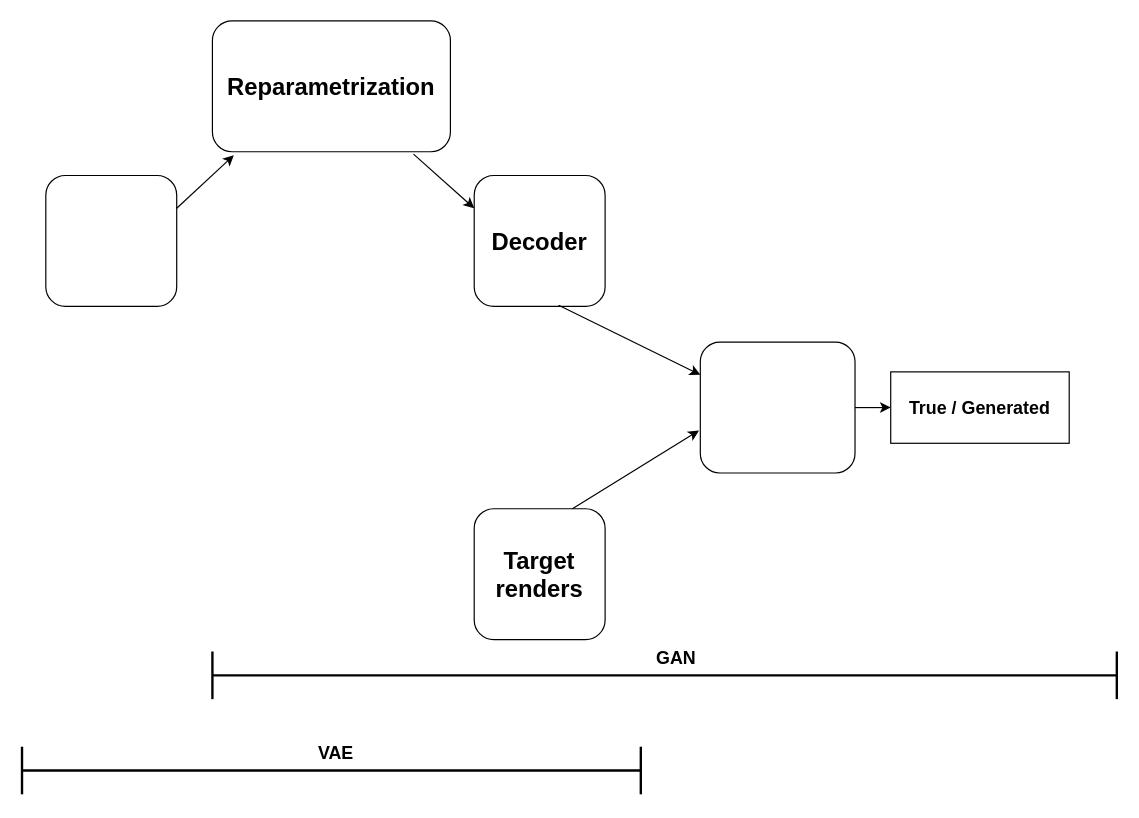
Some shapes in this 1139 by 818 pixel diagram are drawn without their labels. Each missing label, with the centre of its shape:
"Discrimator" goes at point 777,407.
"Encoder" goes at point 111,240.
